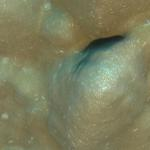alive: (2, 3, 147, 148)
